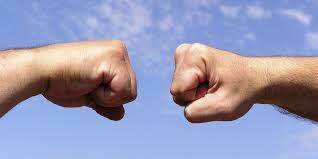fist: (50, 33, 135, 129), (168, 38, 252, 127)
